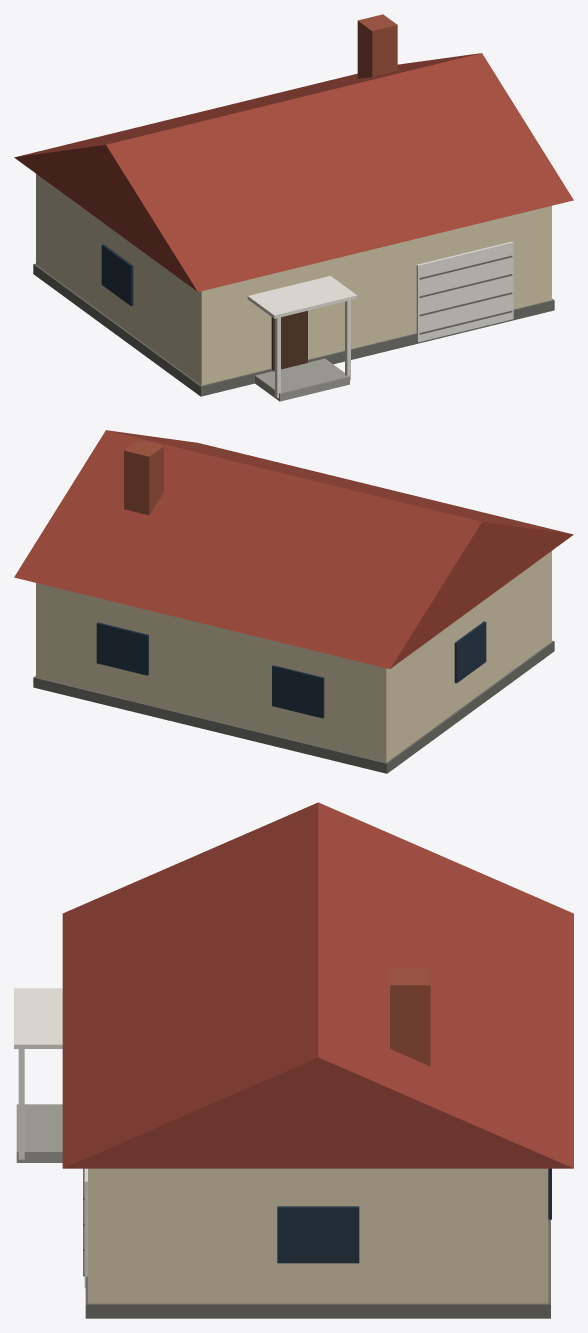
Rendered from house_a.glb.
The picture shows the model from 3 angles, top to bottom: view 1: azimuth 30°, elevation 25°; view 2: azimuth 150°, elevation 25°; view 3: azimuth 270°, elevation 25°; orthographic projection. The views are drawn at different scales.
Parts seen in each view (by area): view 1: house_a_Body; view 2: house_a_Body; view 3: house_a_Body.
Boxes of the visible parts, x1,y1,x2,y2 form: house_a_Body: (14, 14, 573, 401); house_a_Body: (14, 430, 573, 773); house_a_Body: (14, 802, 573, 1318).
Bounding box in the file's own units: 11.8 × 6.5 × 10.95.
